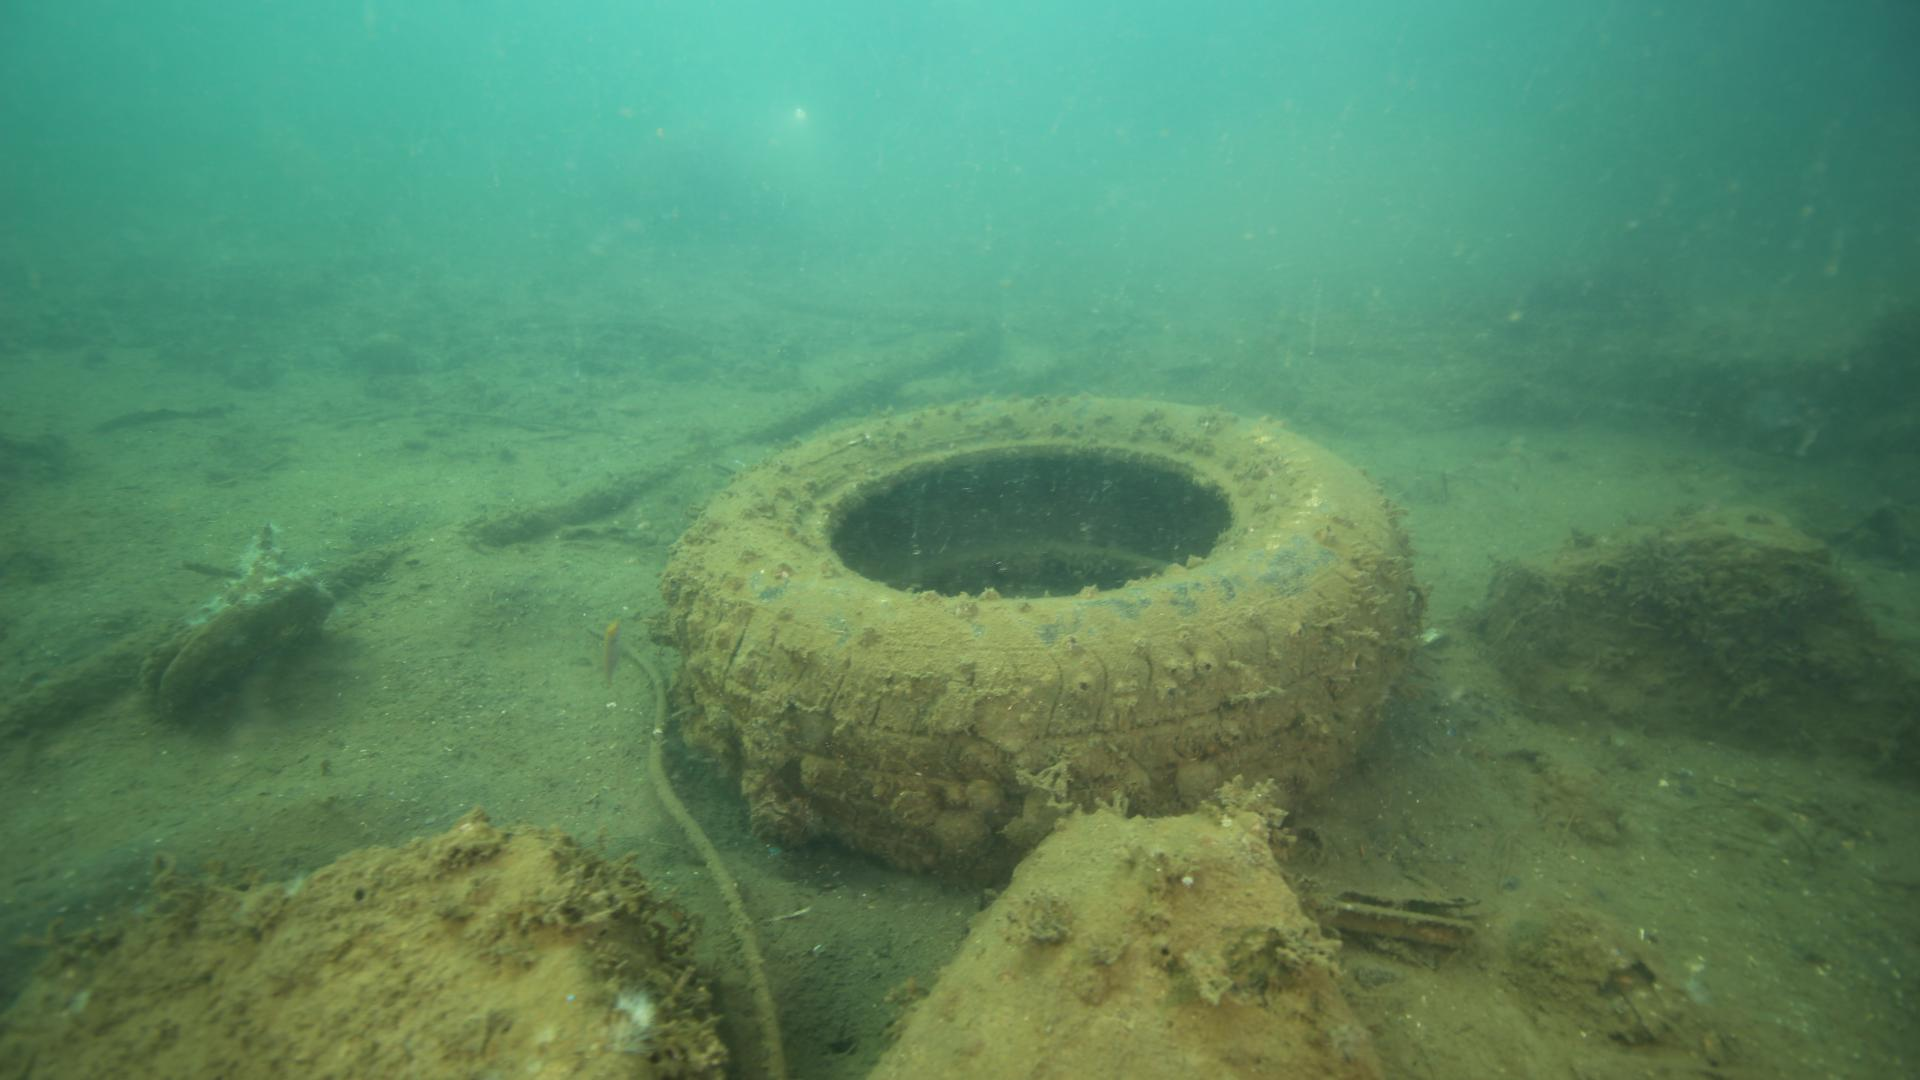tire: (649, 393, 1411, 872)
